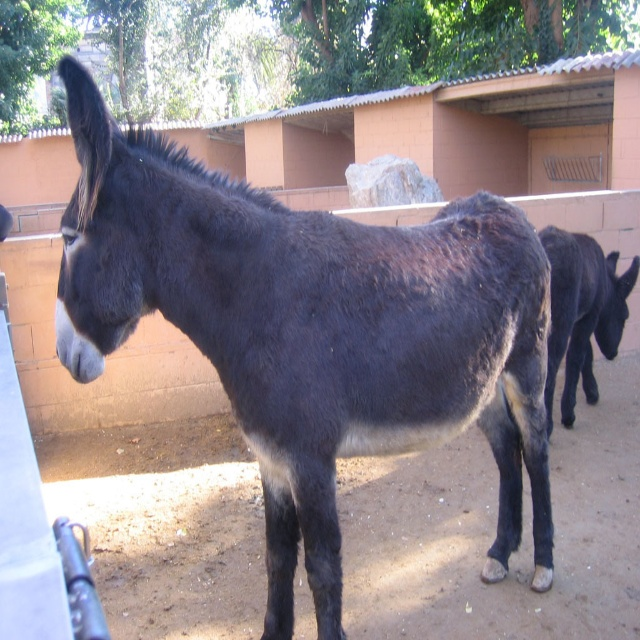Mule: (56, 55, 556, 640), (538, 225, 640, 441)
